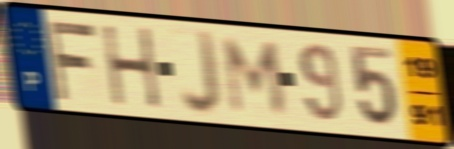5: (345, 42, 400, 130)
9: (296, 40, 345, 126)
F: (44, 18, 99, 103)
H: (99, 23, 165, 111)
J: (179, 26, 224, 119)
M: (222, 35, 290, 118)
